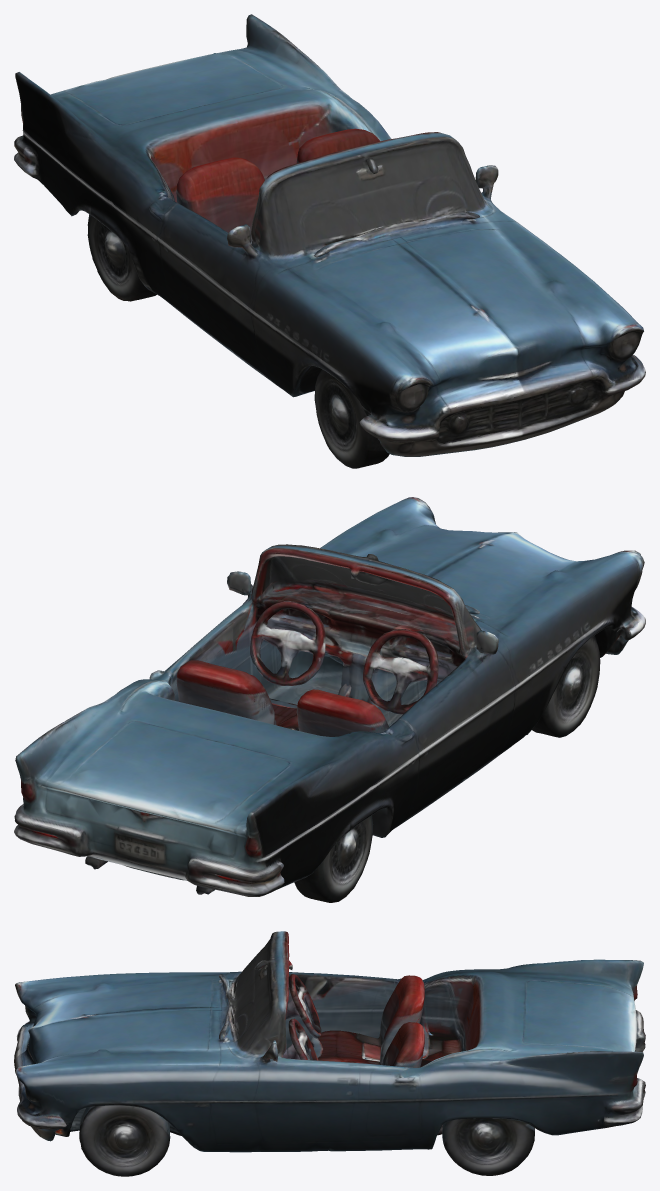
File: i_want_a_3d_model_of__1108190906_refine.obj
3 renders of one model, top to bottom at view 1: azimuth 30°, elevation 25°; view 2: azimuth 150°, elevation 25°; view 3: azimuth 270°, elevation 25°, orthographic. The views are drawn at different scales.
Visible parts, largest first — view 1: Mesh_0; view 2: Mesh_0; view 3: Mesh_0.
Part boxes in pixels (x1,y1,x2,y2): Mesh_0: [14, 14, 645, 468]; Mesh_0: [14, 497, 645, 902]; Mesh_0: [14, 931, 645, 1176].
Size of the model in its own units: 0.7998 by 0.6041 by 2.
1 material, 1 textured.
